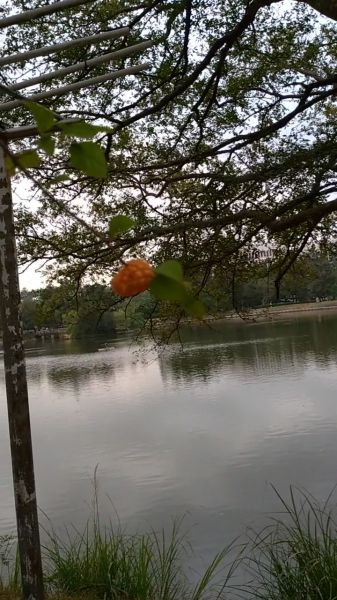eggs: (108, 256, 160, 304)
